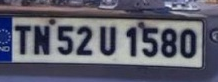0: (179, 29, 199, 60)
1: (125, 26, 141, 58)
2: (76, 25, 93, 56)
5: (57, 25, 76, 56), (141, 28, 160, 58)
8: (160, 28, 178, 60)
N: (33, 25, 52, 56)
T: (13, 25, 32, 55)
U: (99, 25, 118, 56)
